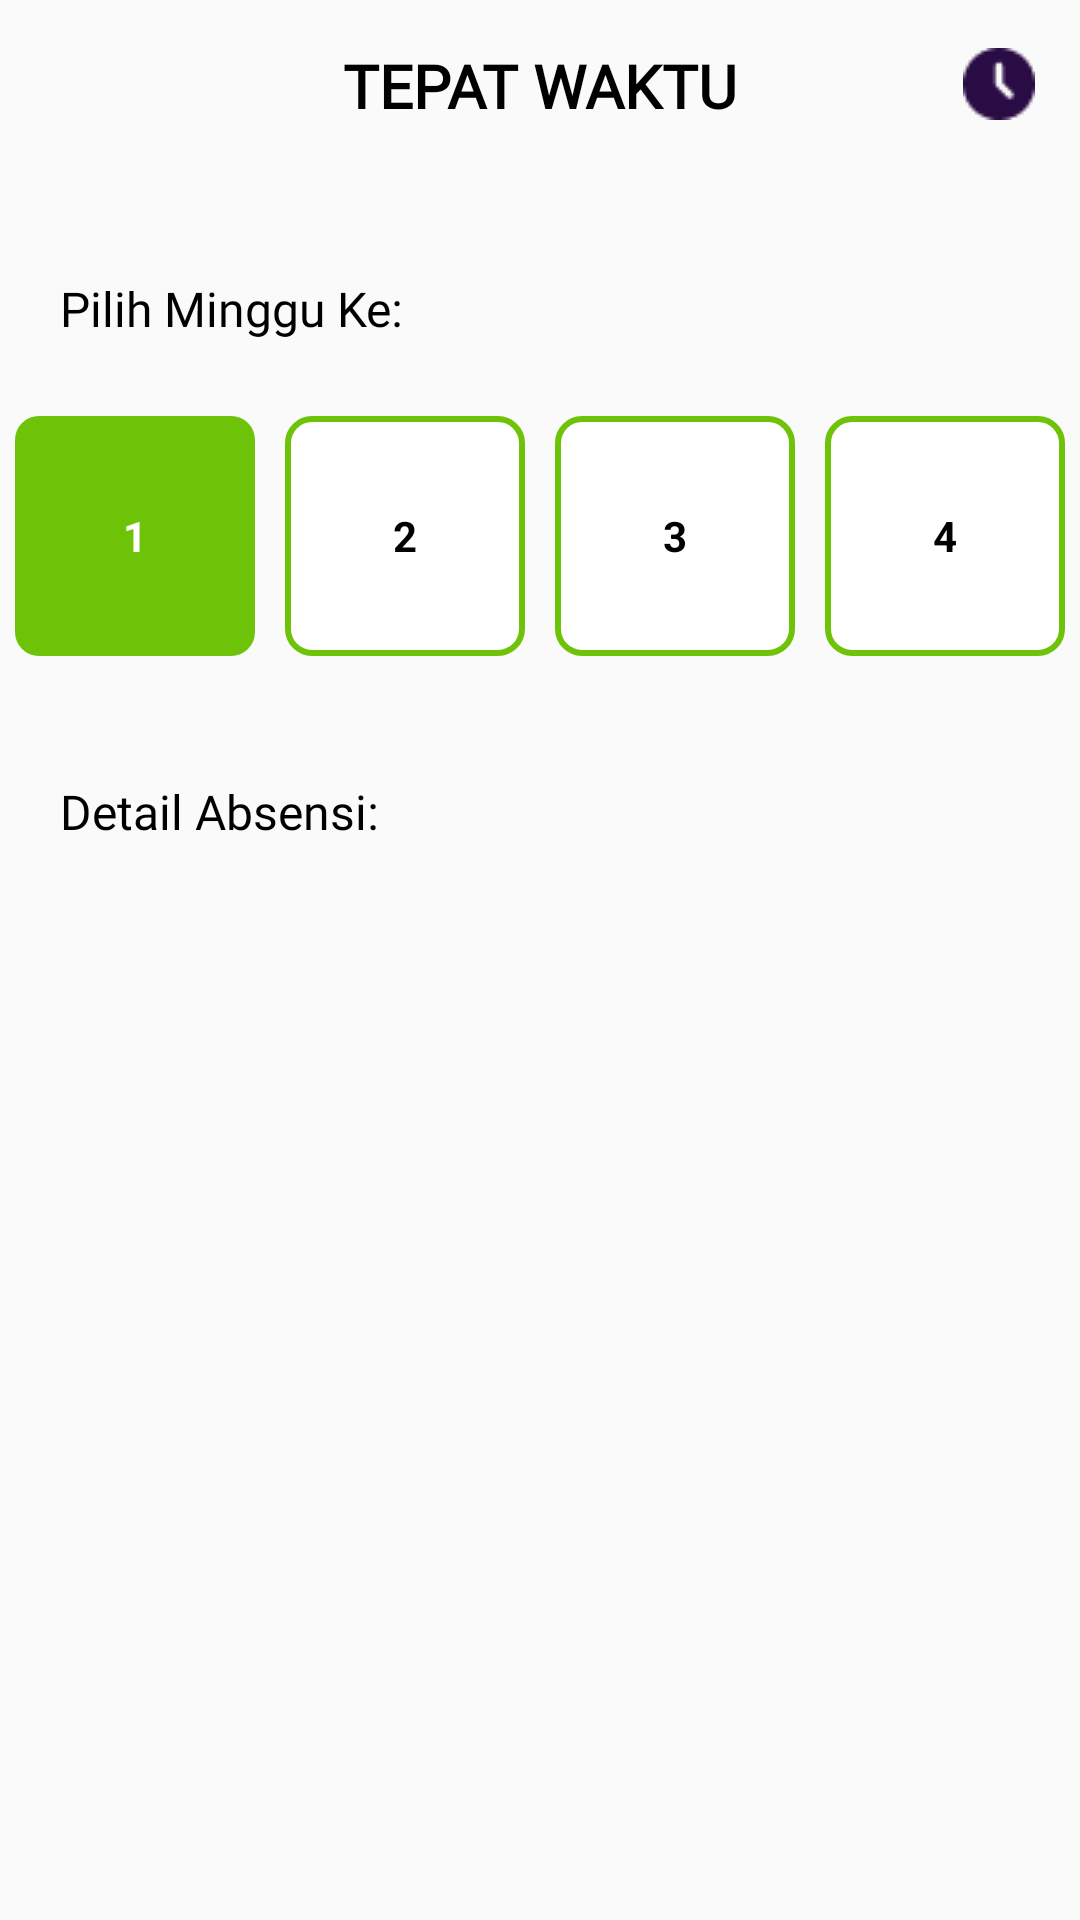

Screen size 1080×1920. Icon name, then its center in pixels as point (x, y):
iconclockblck: point (999, 84)
